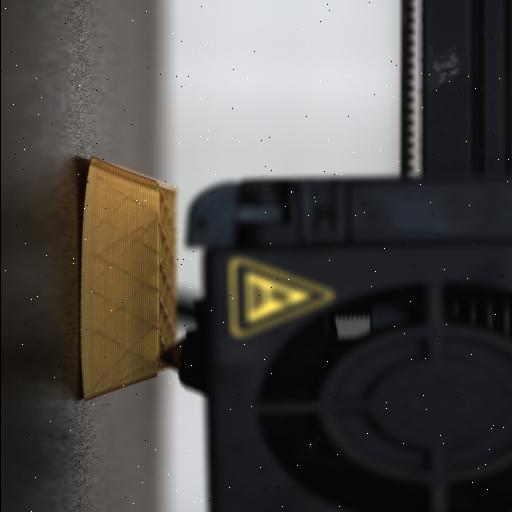warp: (69, 374, 97, 412), (81, 154, 103, 202)
